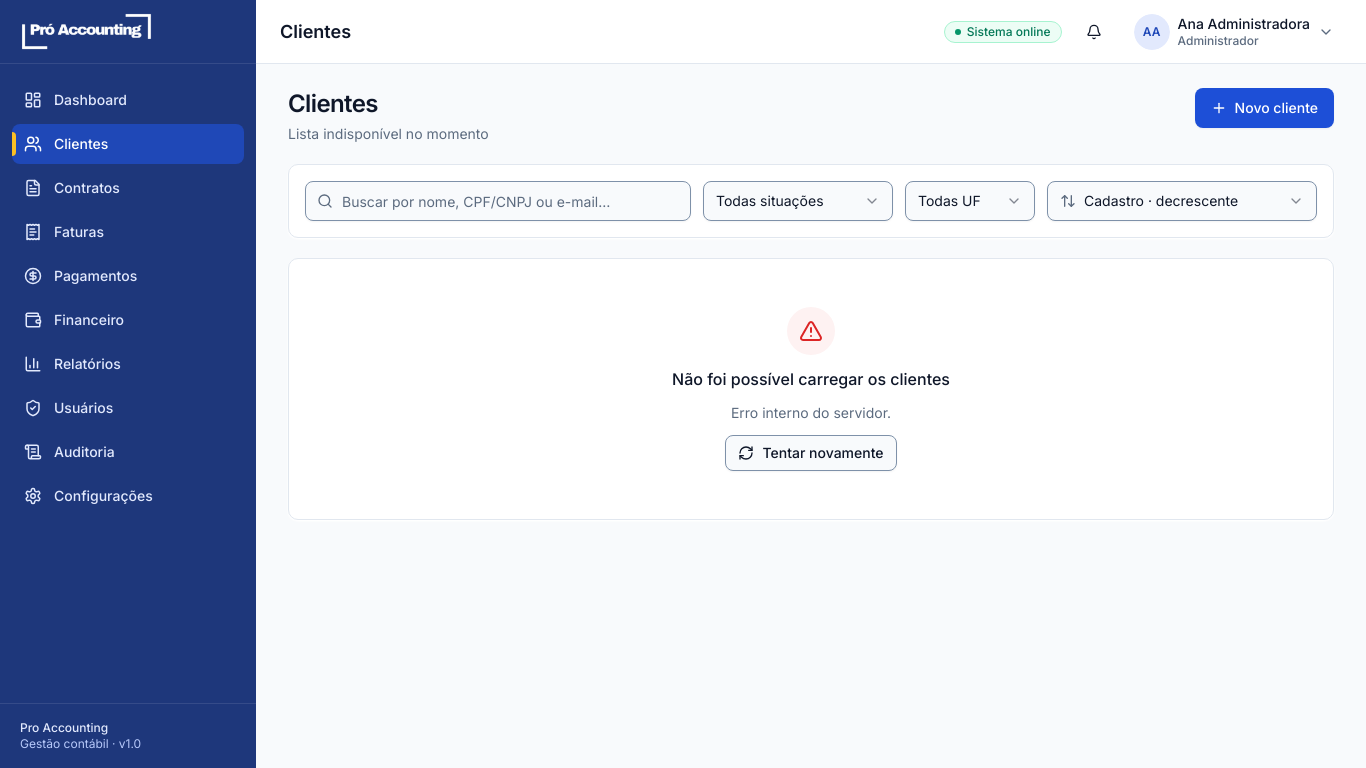
Test: listagens › lista com erro oferece "Tentar novamente"
The image size is (1366, 768).
Click the button "Tentar novamente": (811, 453) [726,435,897,471]
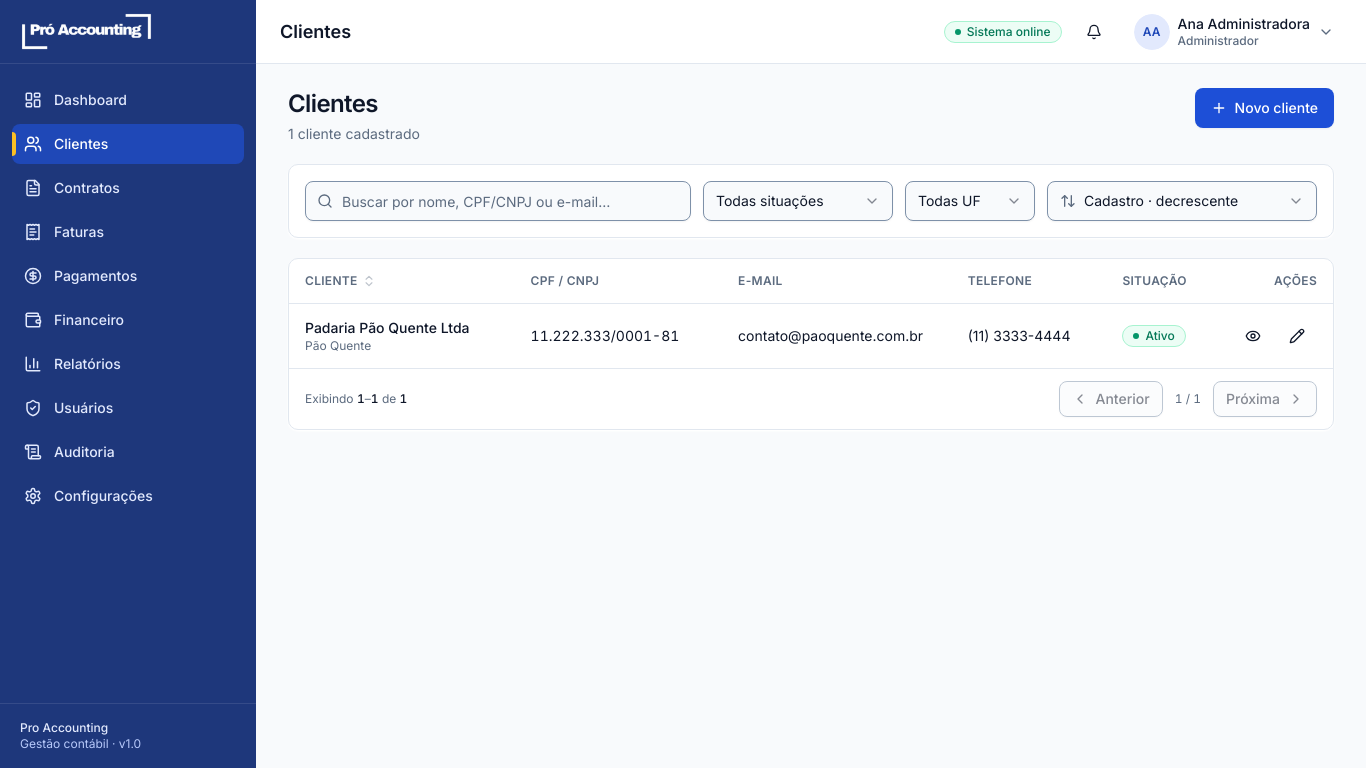
Expected: the link "Padaria Pão Quente Ltda" is shown, [305,318,470,336]
